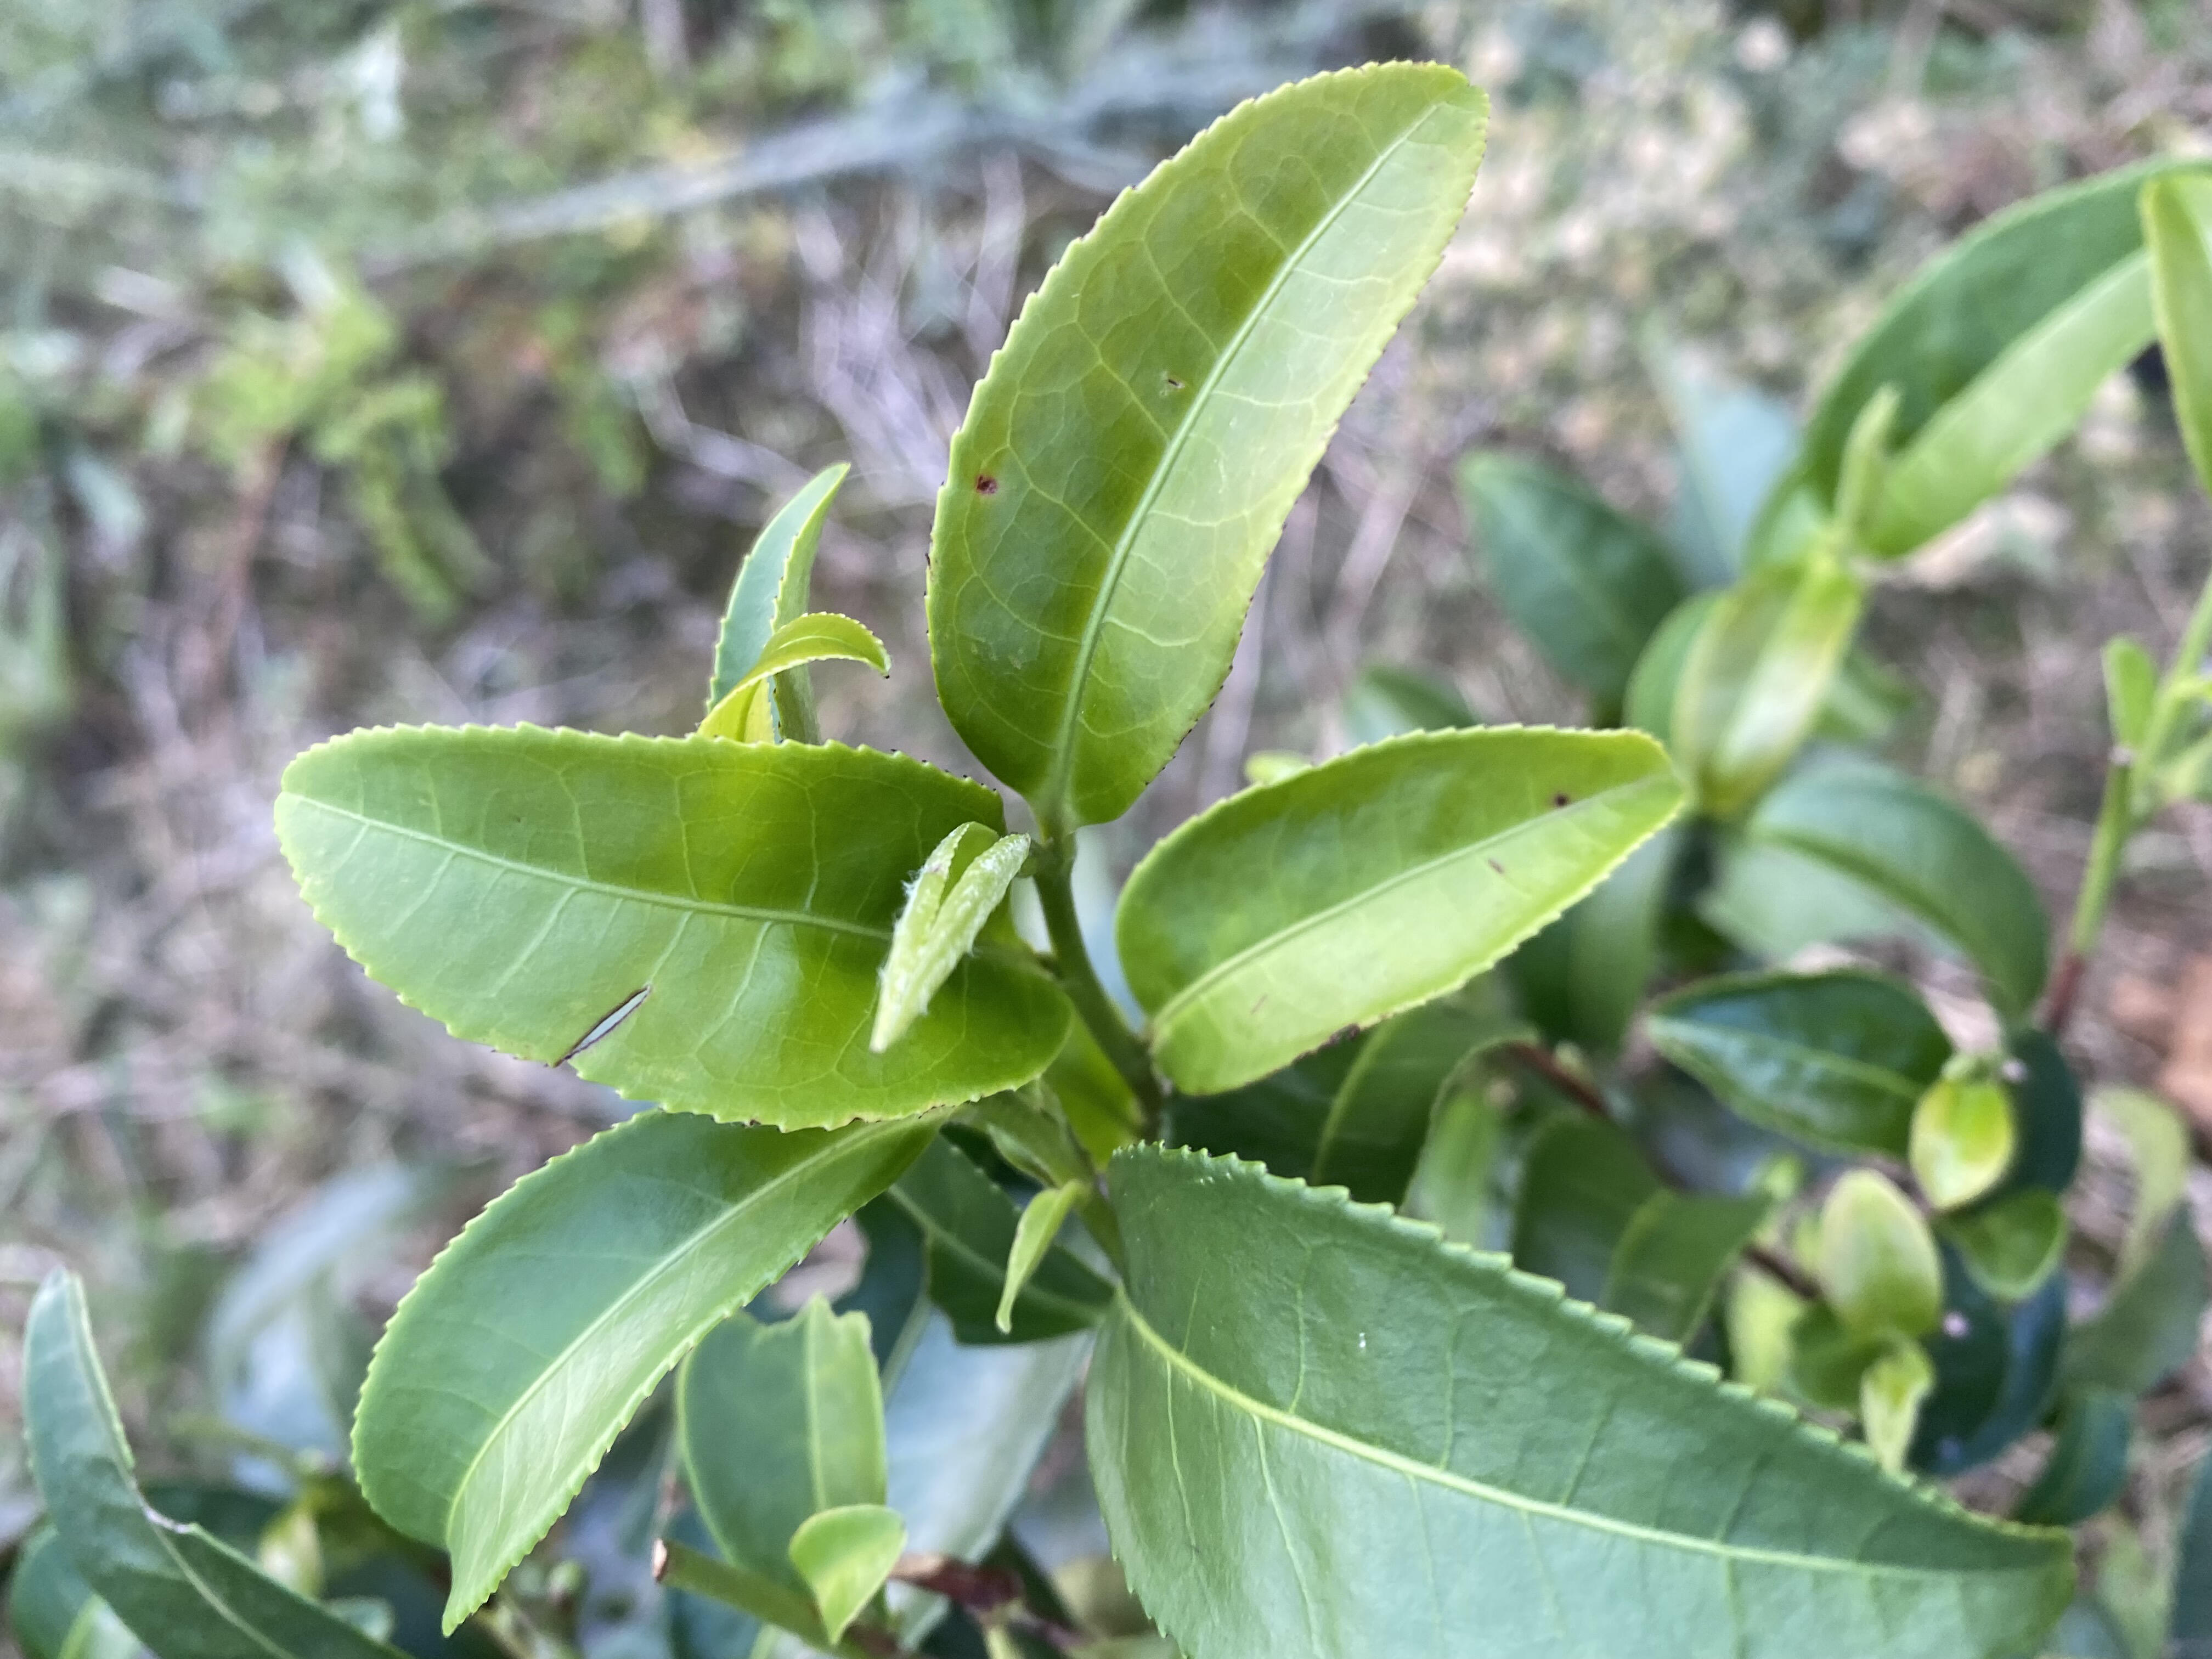chihuo_high: (674, 1297, 894, 1584)
chihuo_low: (270, 723, 1069, 1133), (23, 1265, 402, 1656)
healthy: (1087, 1140, 2087, 1659), (347, 1112, 953, 1638)
tanju_low: (928, 58, 1489, 838), (1115, 725, 1683, 1100)
